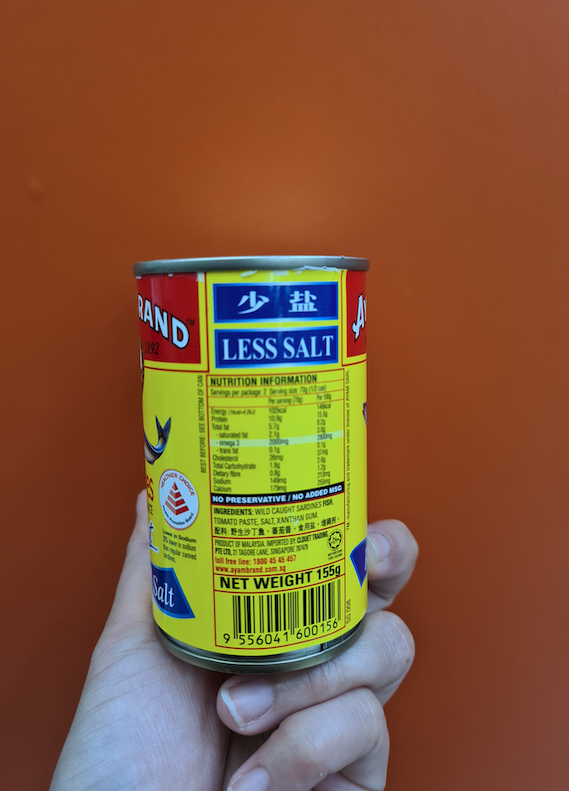Canned_Sardines_and_Mackerel: (144, 265, 366, 656)
